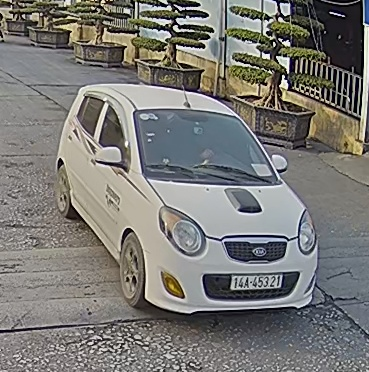vehicle plate: (227, 269, 285, 292)
